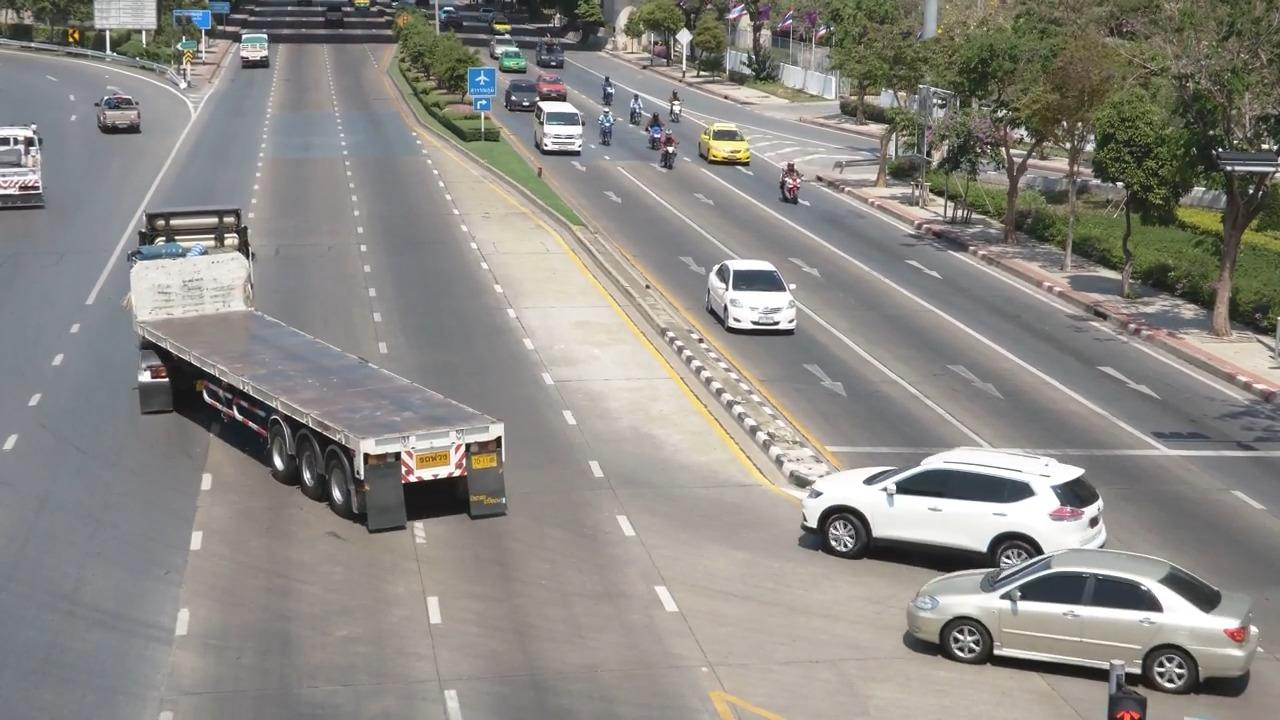CAR: (889, 532, 1270, 683), (782, 412, 1105, 575), (702, 252, 802, 342), (0, 118, 62, 230), (533, 95, 592, 161), (89, 86, 153, 146), (694, 119, 761, 174), (230, 27, 285, 87), (529, 34, 561, 74)
HGV_BUS: (108, 195, 520, 597)
MOTOR: (623, 90, 650, 138), (775, 159, 800, 208), (654, 128, 682, 170), (663, 91, 687, 123), (596, 105, 614, 145)
